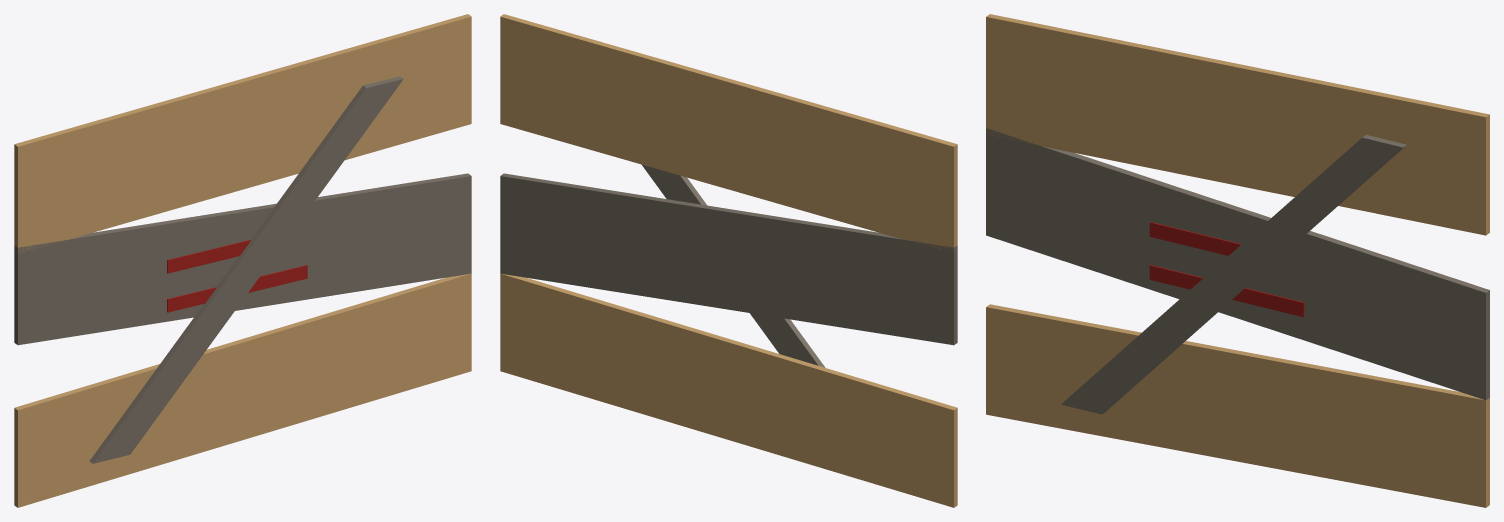
The model's file is boarded_window.glb.
3 renders of one model, left to right at view 1: azimuth 30°, elevation 25°; view 2: azimuth 150°, elevation 25°; view 3: azimuth 330°, elevation 25°, orthographic. The views are drawn at different scales.
Visible parts, largest first — view 1: boarded_window; view 2: boarded_window; view 3: boarded_window.
Boxes of the visible parts, left/top/right/bottom form: boarded_window: left=14, top=14, right=471, bottom=507; boarded_window: left=500, top=14, right=957, bottom=507; boarded_window: left=986, top=14, right=1489, bottom=507.
Size of the model in its own units: 1.46 by 1.17 by 0.04.
Materials: 1 (1 with a texture image).
